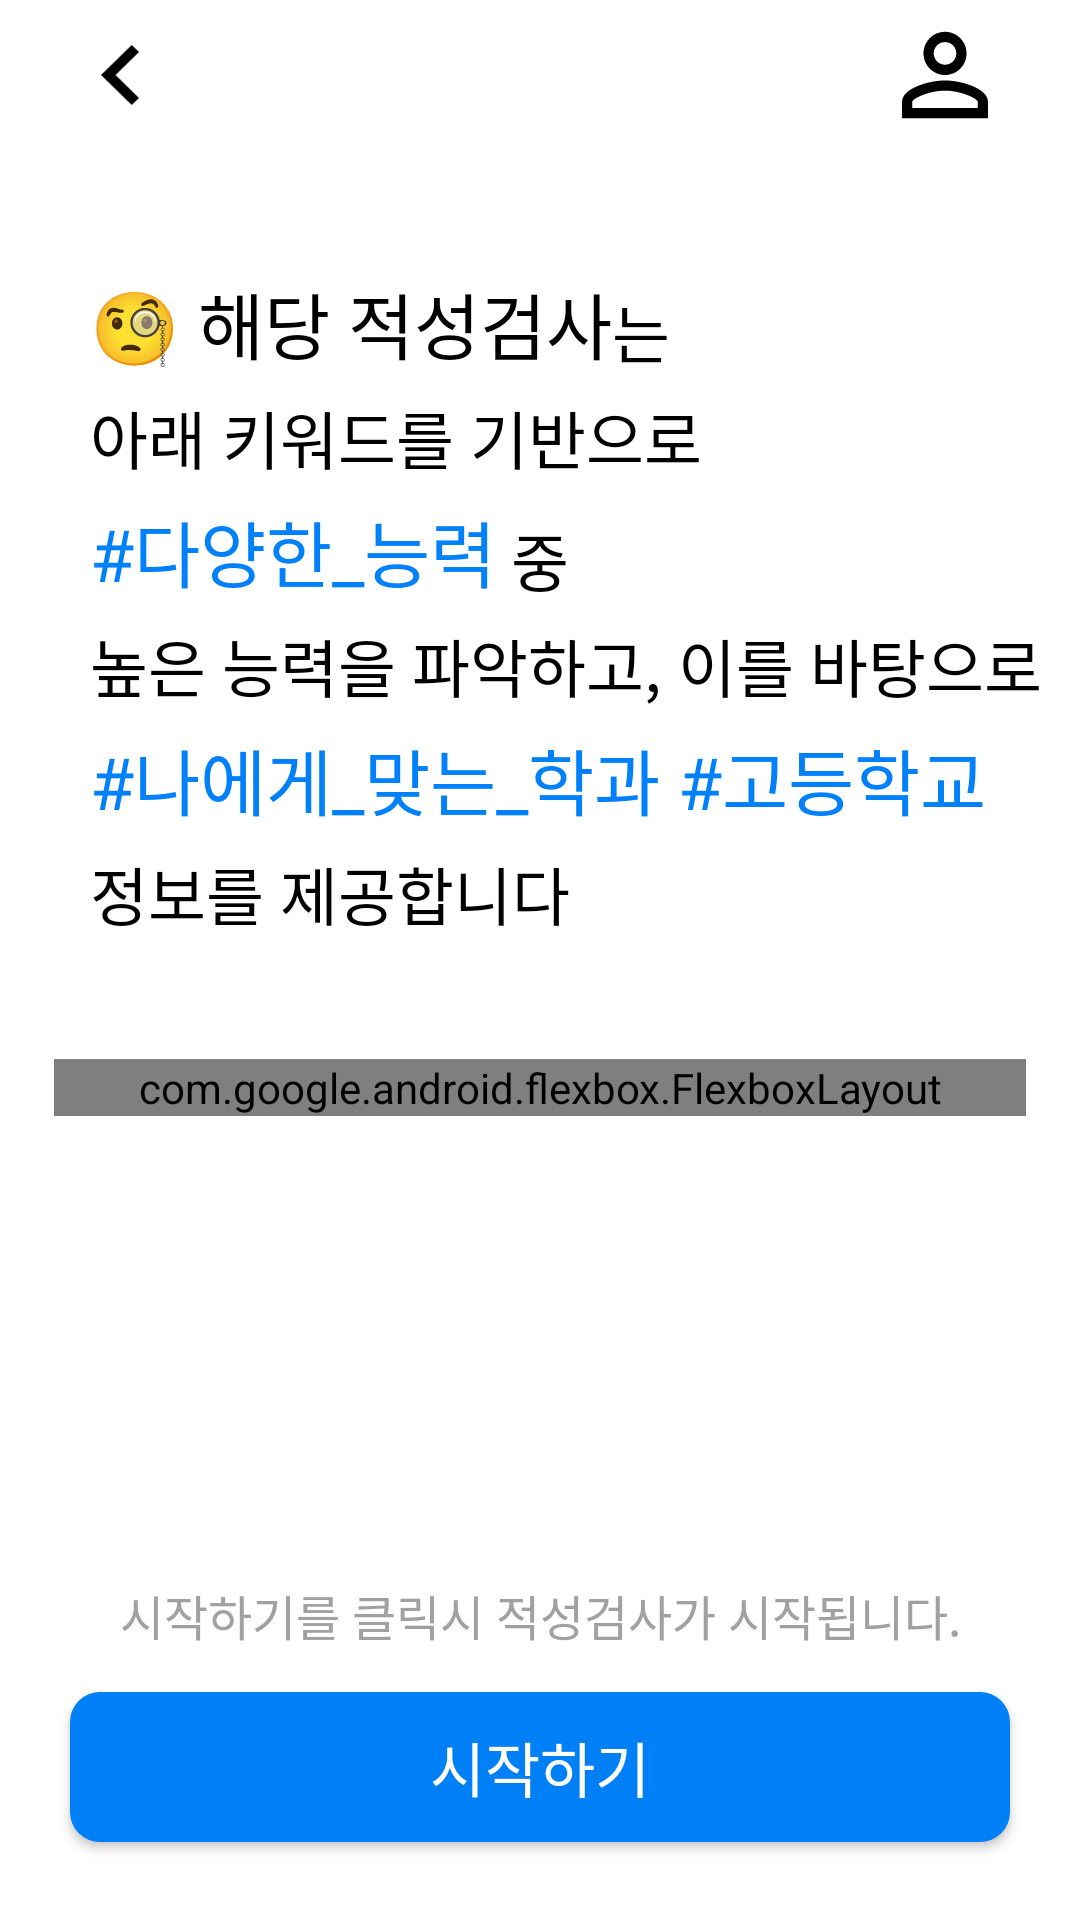

Screen size 1080px x 1920px. Icon name, then its center in pixels as (x=x, y=y):
back arrow: (x=120, y=75)
